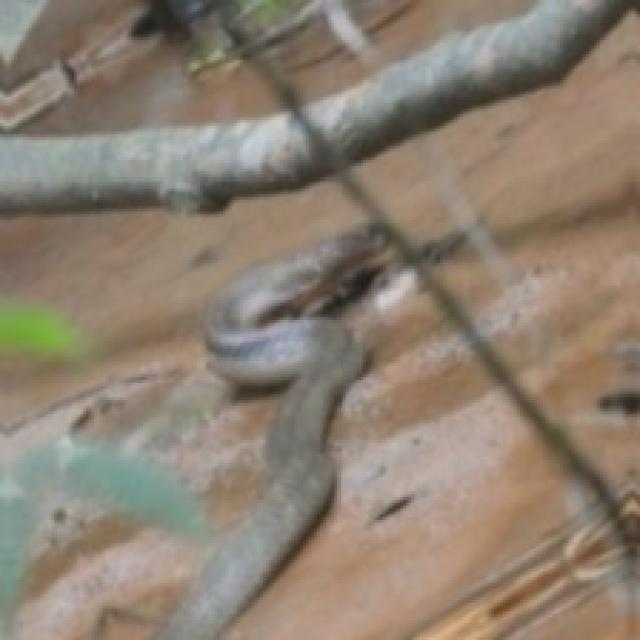king cobra: (158, 224, 388, 639)
